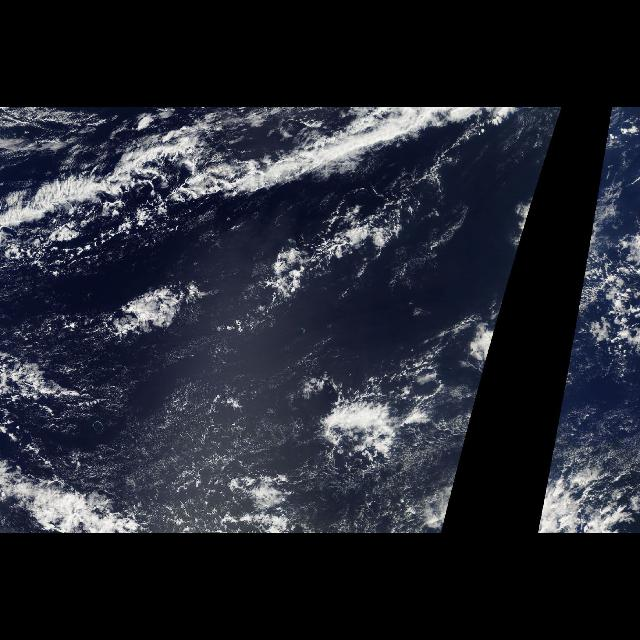Fish: (3, 109, 509, 339)
Sugar: (58, 326, 326, 486)
